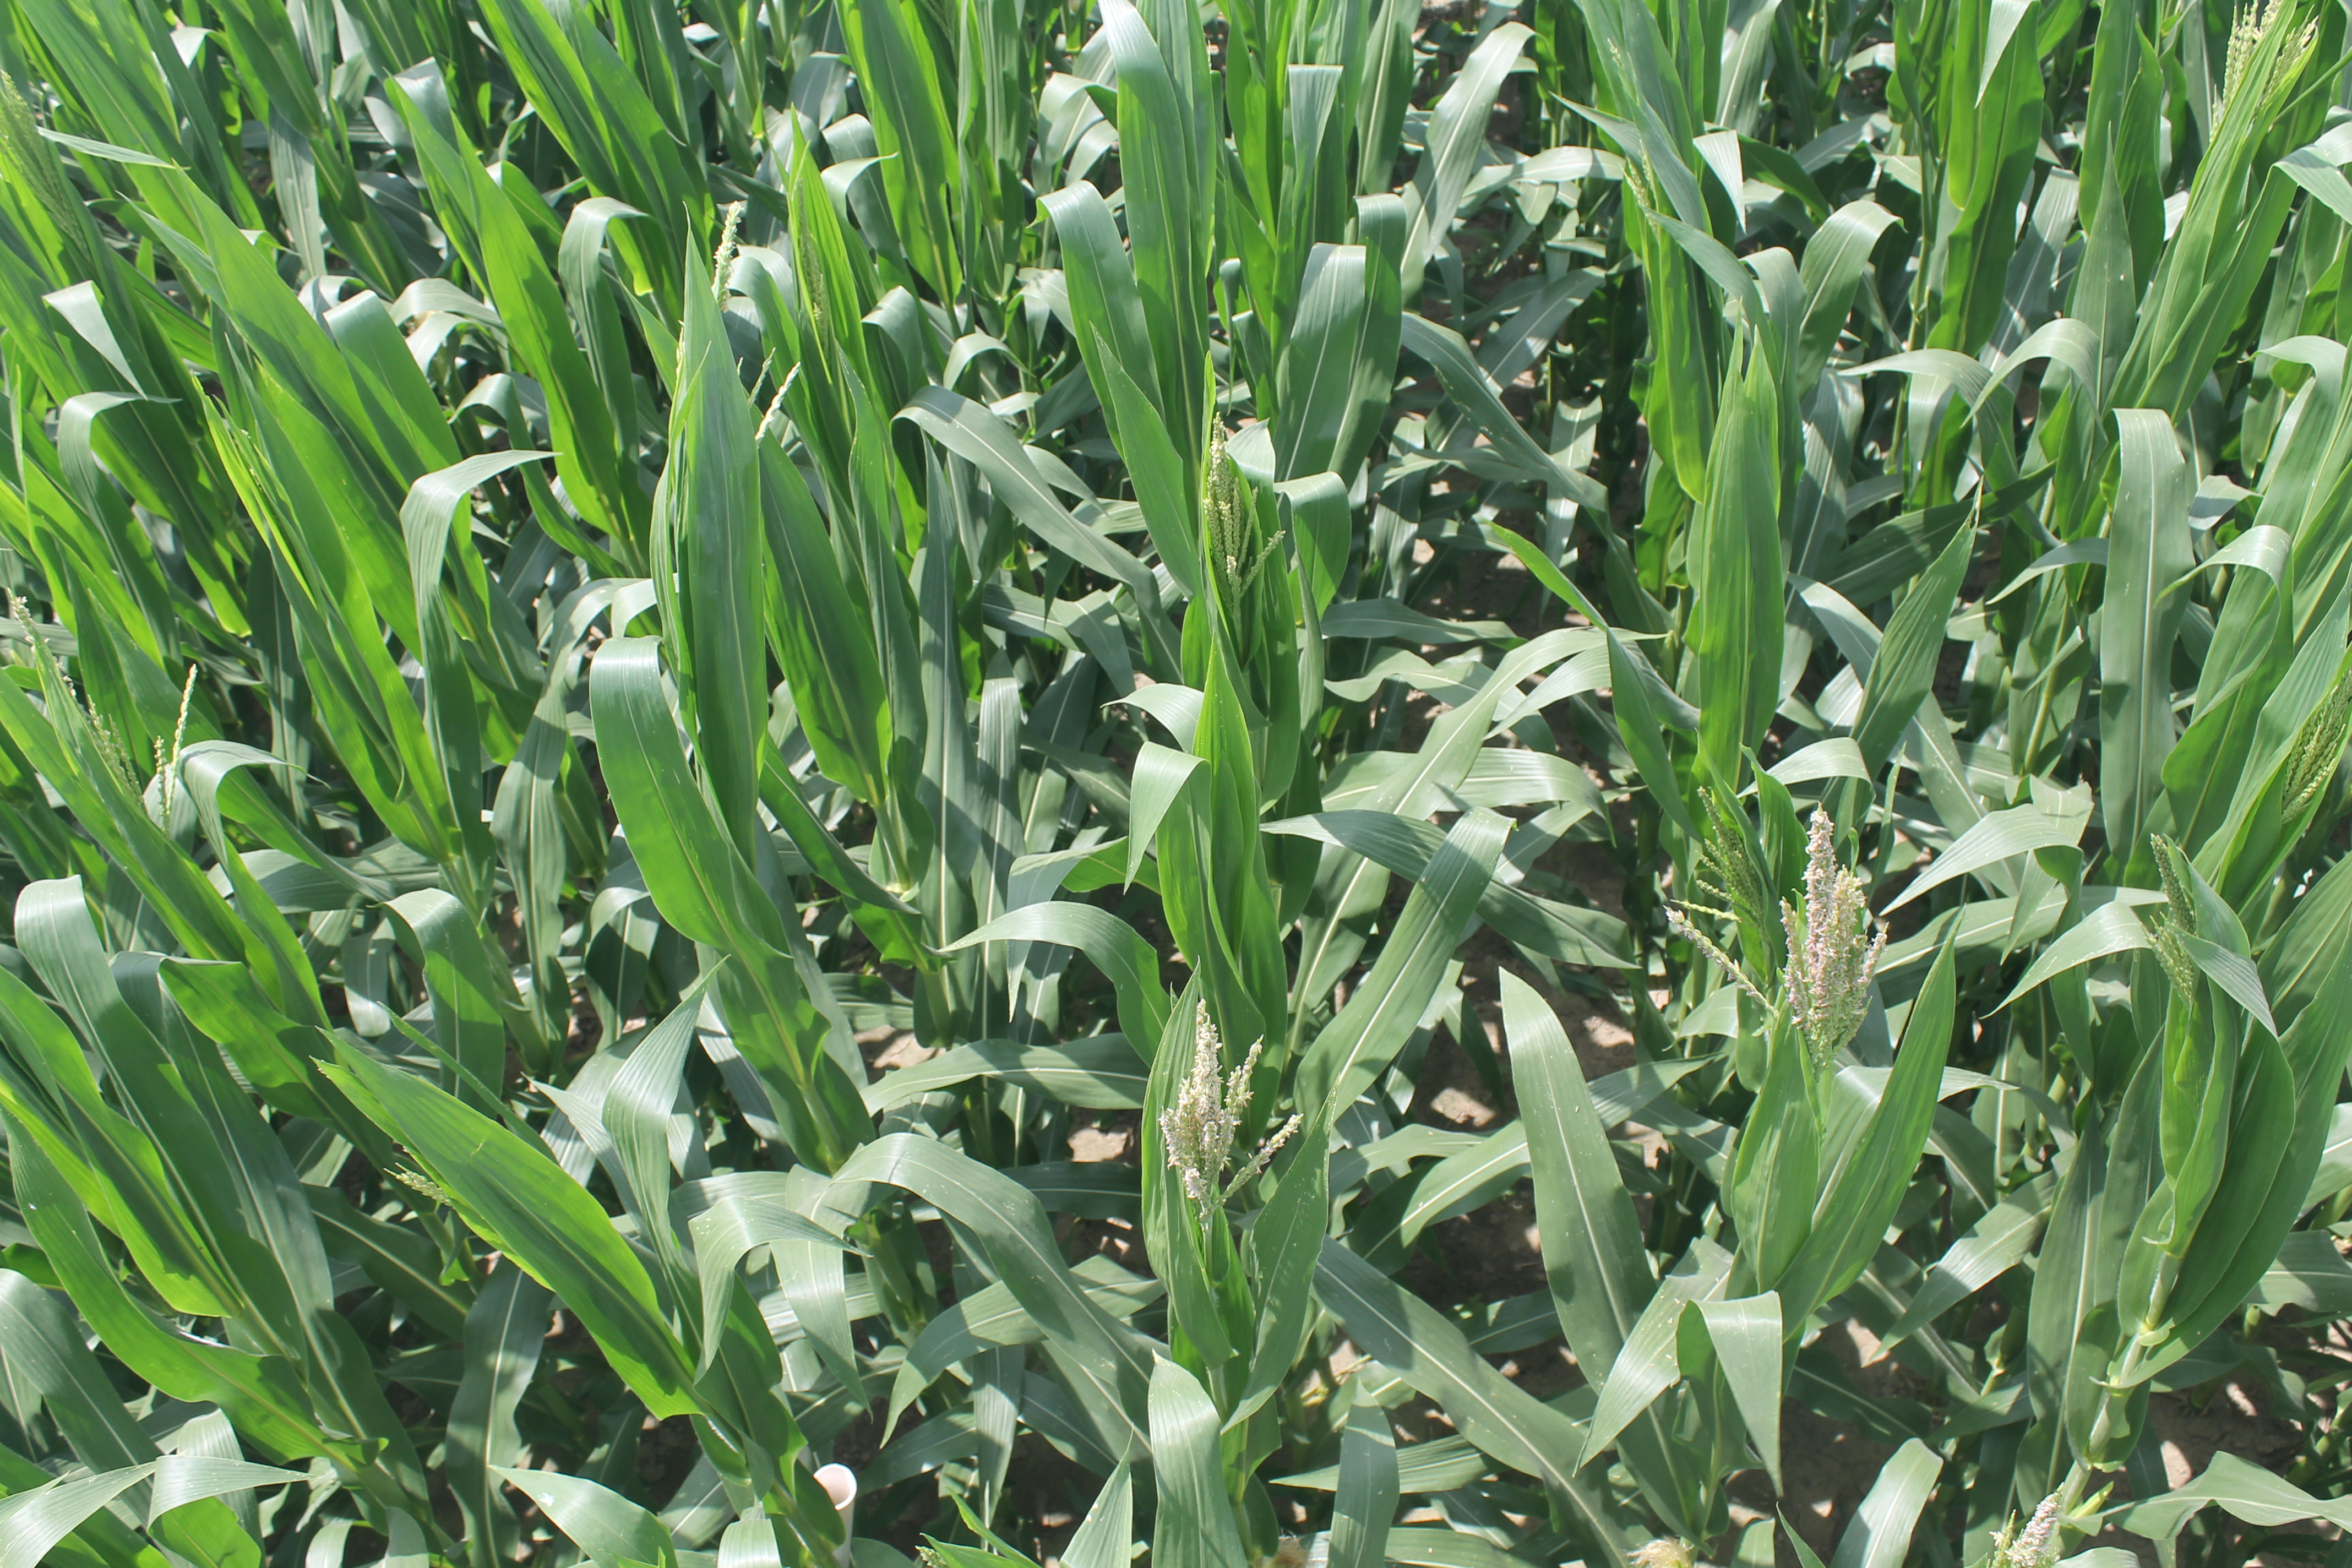Maize: (1178, 1001, 1307, 1221), (1783, 808, 1895, 1041), (1680, 773, 1767, 948), (1200, 413, 1272, 595), (2282, 651, 2352, 821), (2138, 836, 2205, 1010), (2207, 0, 2287, 142)
